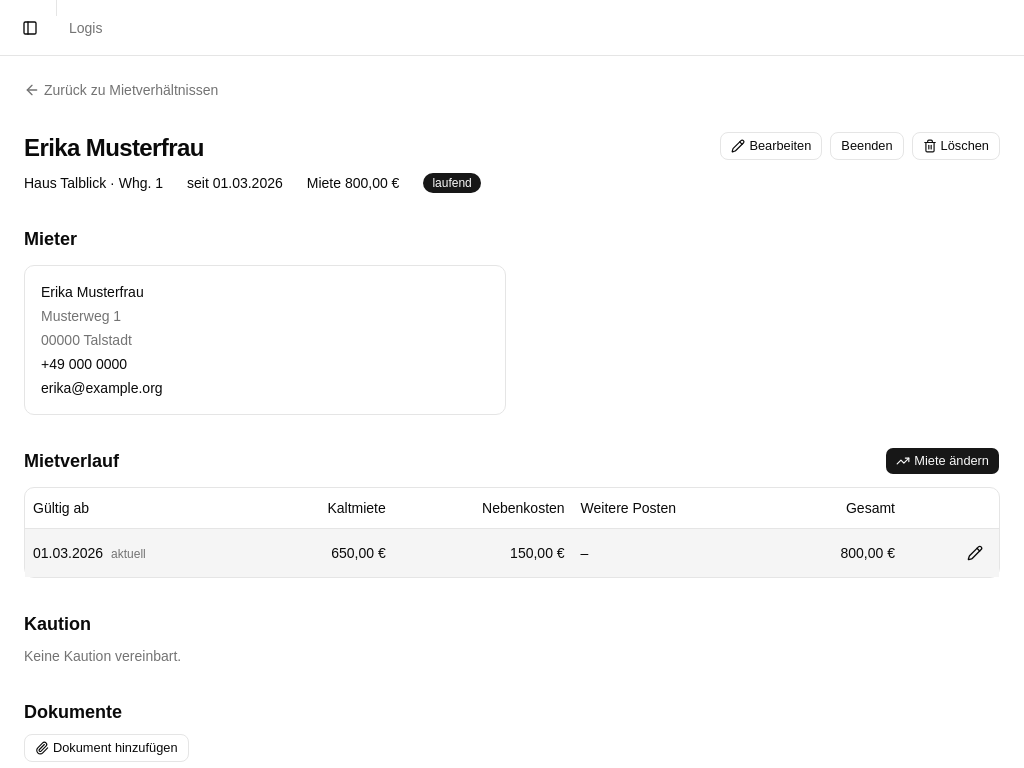
Test: Tenancy page › shows the message for a date that already has a rent
Click the button "Miete ändern". click: (943, 461)
box: [885,447,1000,475]
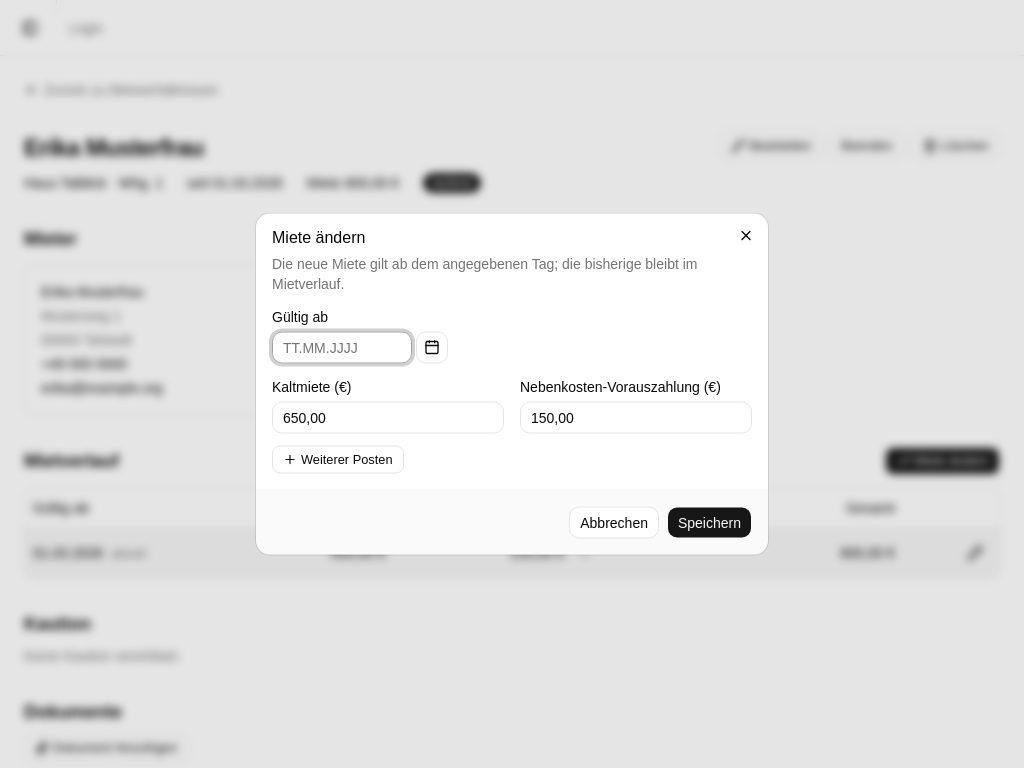
Type "01.03.2026" into the field labelled "Gültig ab". click: (342, 348)
box: [272,332,412,364]
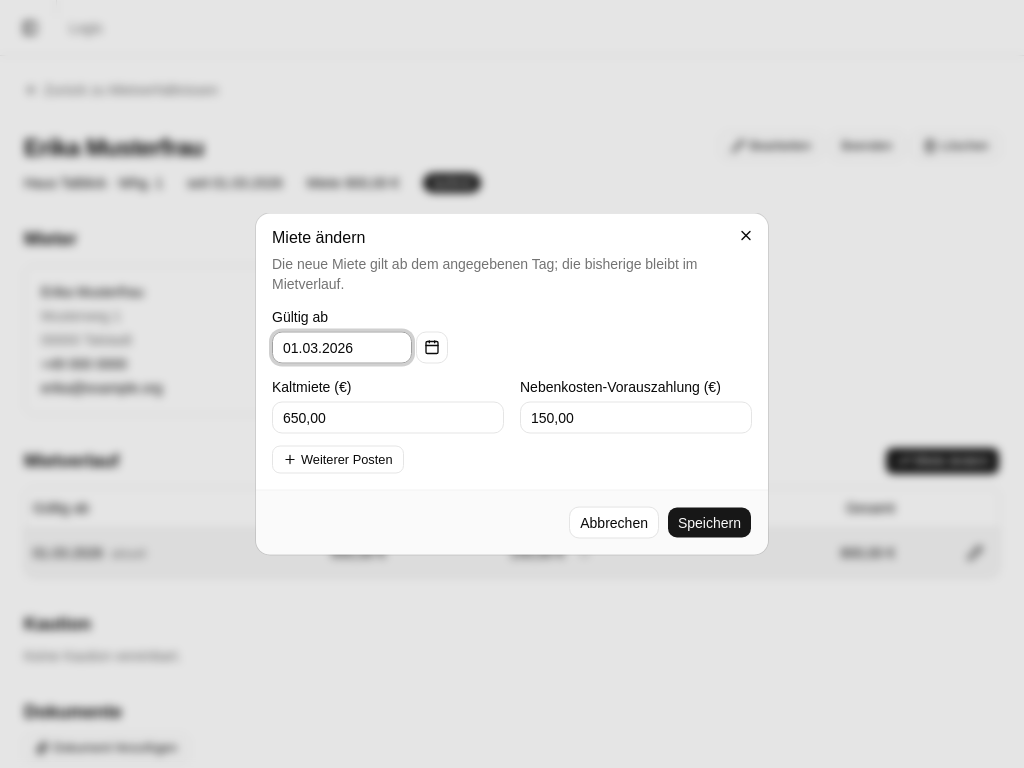
Click the button "Speichern". click: (710, 522)
box: [667,506,752,538]
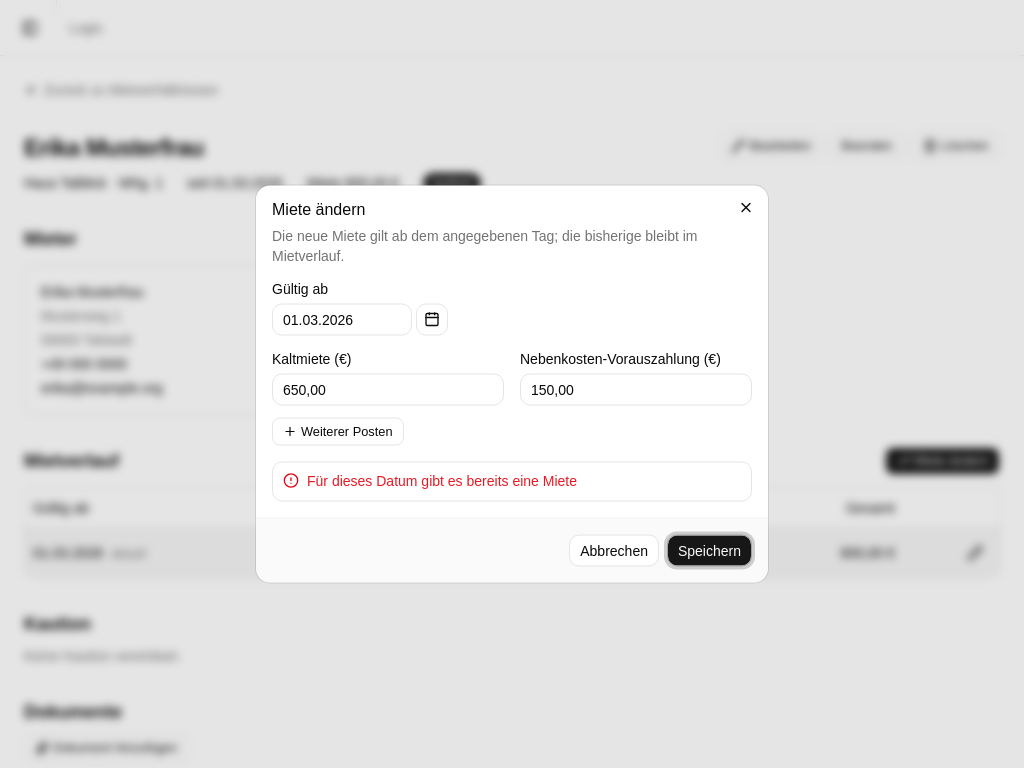
Now the text "Für dieses Datum gibt es bereits eine Miete" is shown, box [307,472,577,488]
